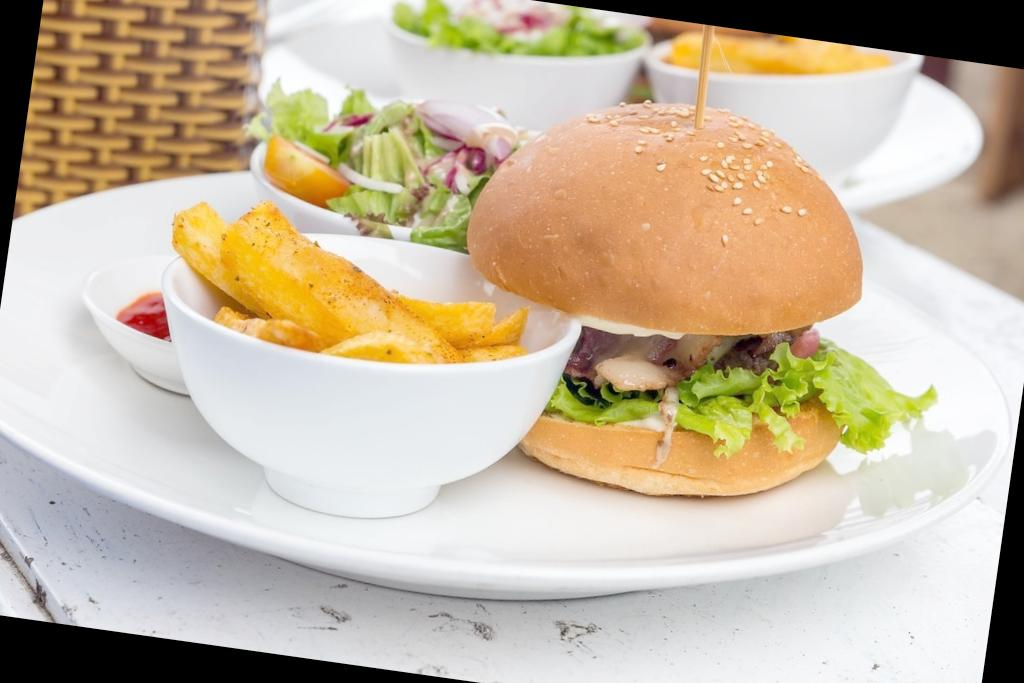Burger: (456, 63, 834, 500)
